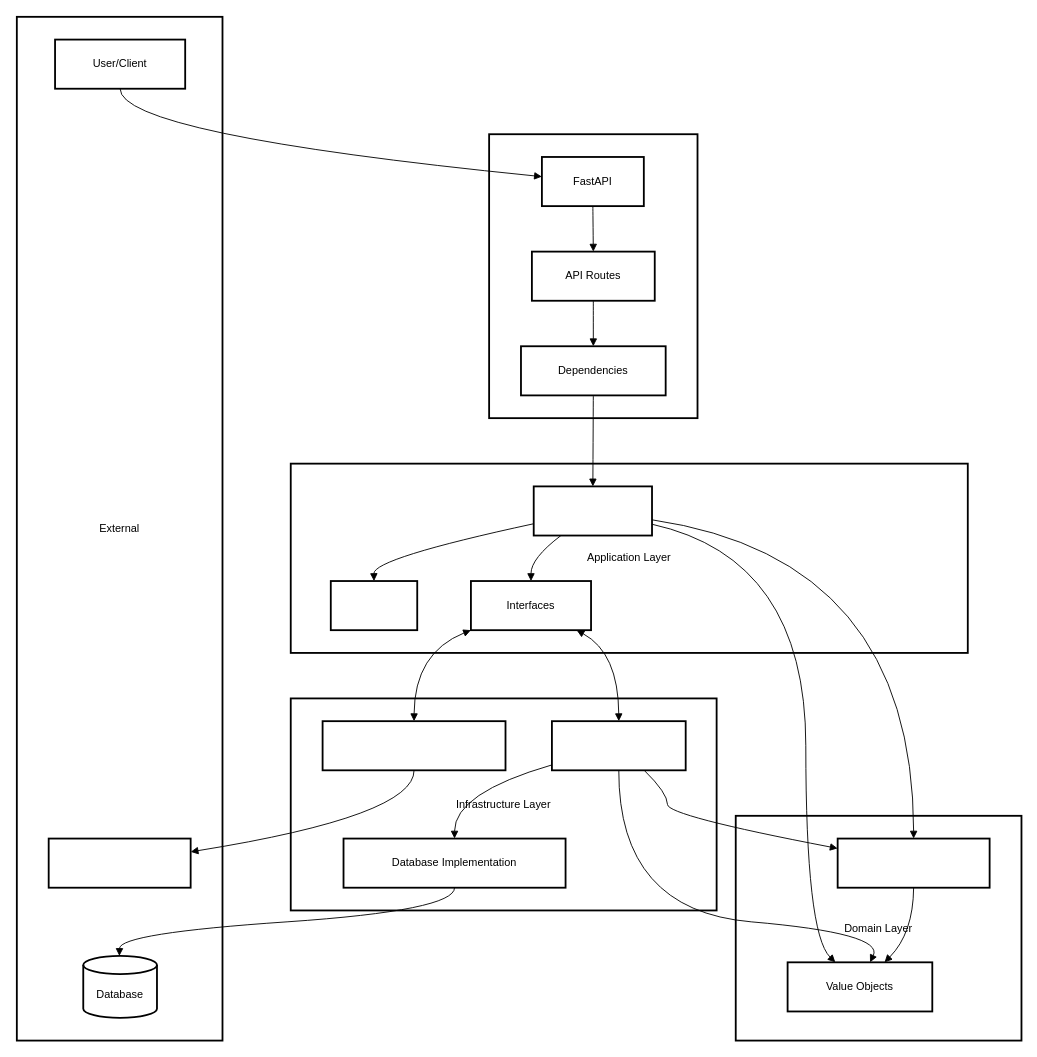
Some shapes in this 1037 by 1057 pixel diagram are drawn without their labels. Here are the shapes that lost their labels. From the top down, the centre of each, then its label:
At (x=592, y=510): "Use Cases".
At (x=373, y=605): "DTOs".
At (x=413, y=745): "Notification Service".
At (x=618, y=745): "Repositories".
At (x=119, y=862): "Email Service".
At (x=913, y=862): "Domain Models".
